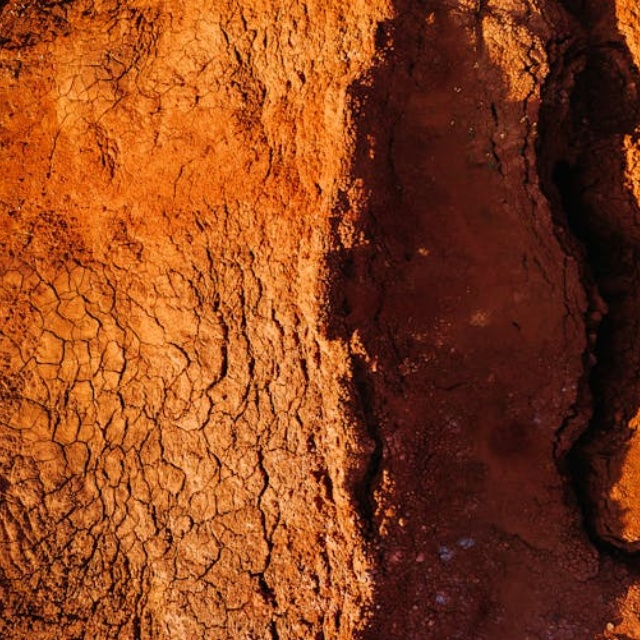深大裂缝: (443, 0, 640, 640)
